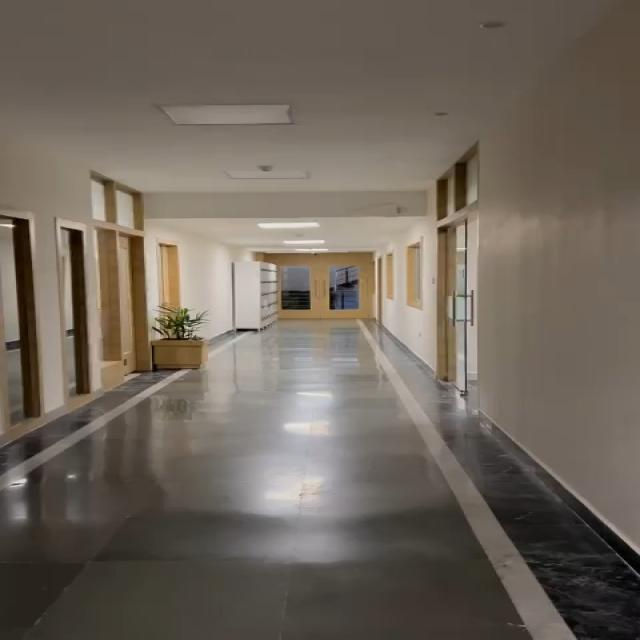door: (422, 162, 473, 392), (251, 248, 383, 322)
floor: (112, 380, 473, 640), (252, 314, 371, 386)
furniture: (144, 307, 212, 369)
wall: (475, 97, 640, 456), (166, 235, 238, 318), (387, 228, 428, 346)
